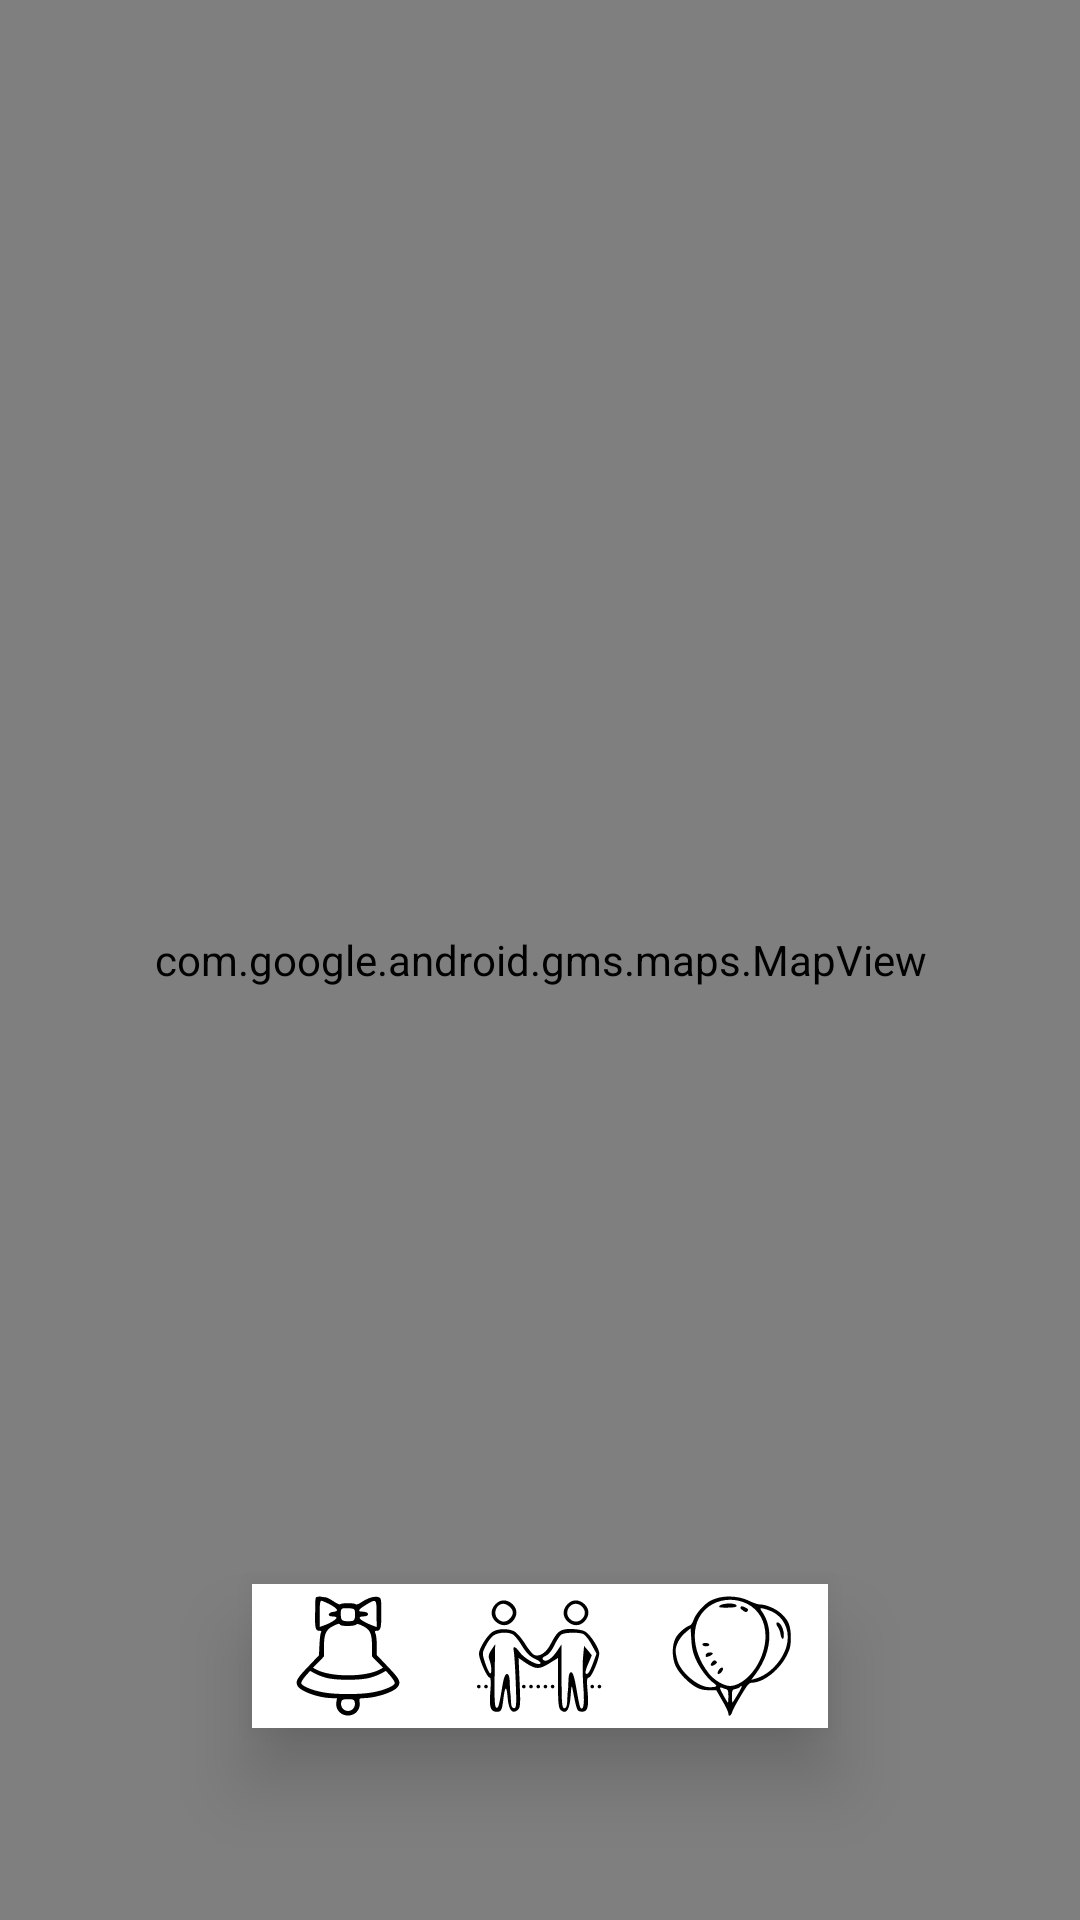

Where icons sit on this 1080px x 1920px app screen, as (x1, y1, x2, y2):
bell: (296, 1596, 400, 1716)
meet: (477, 1600, 602, 1712)
party: (672, 1596, 791, 1716)
